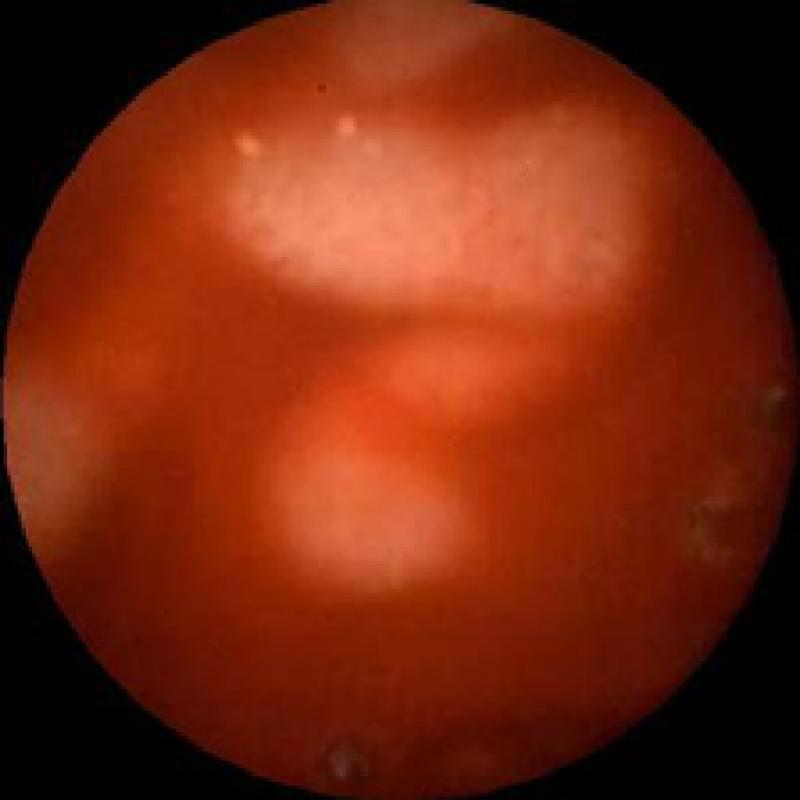bleeding: (118, 29, 675, 764)
